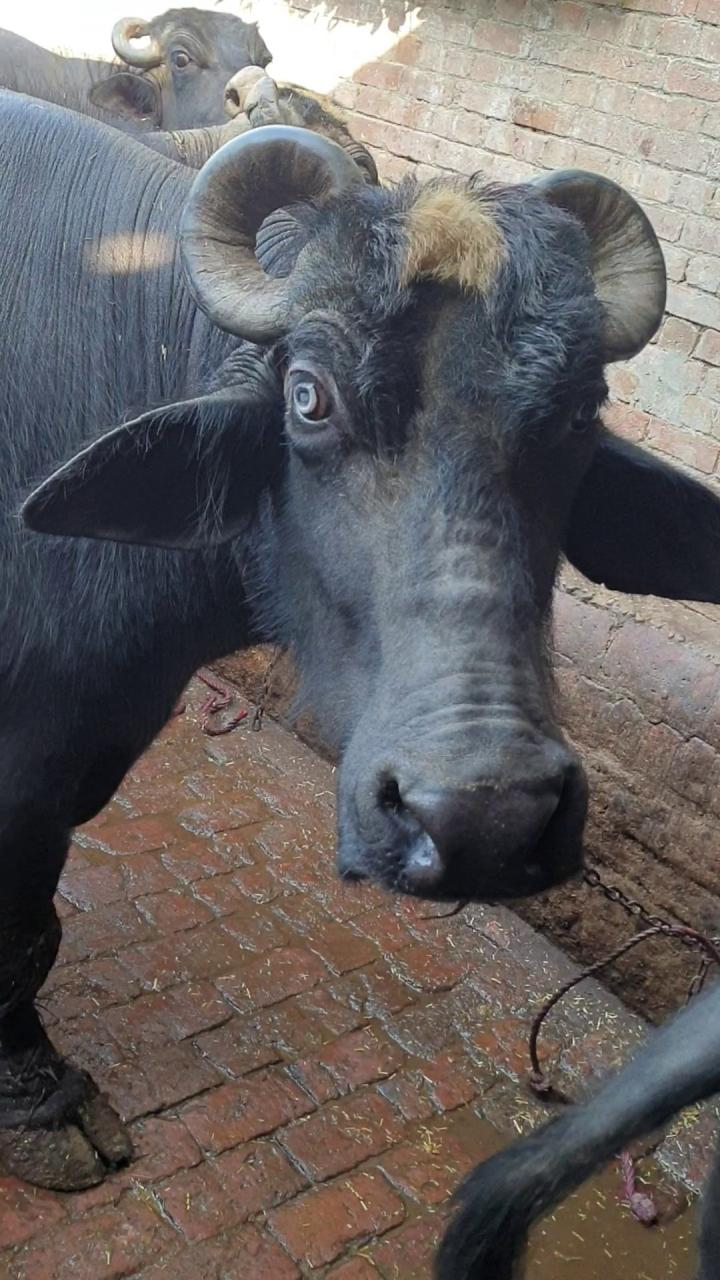cows: (217, 158, 718, 917)
